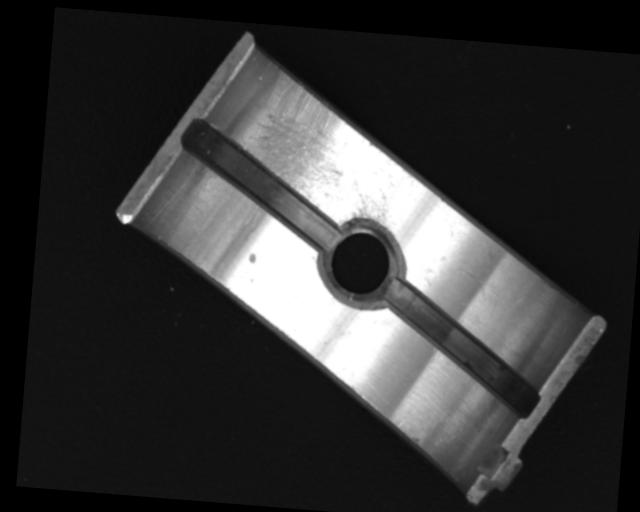bruise: (247, 250, 257, 264)
gap: (372, 277, 548, 420), (175, 117, 345, 250)
hole: (315, 215, 408, 307)
scratch: (247, 70, 406, 234)
